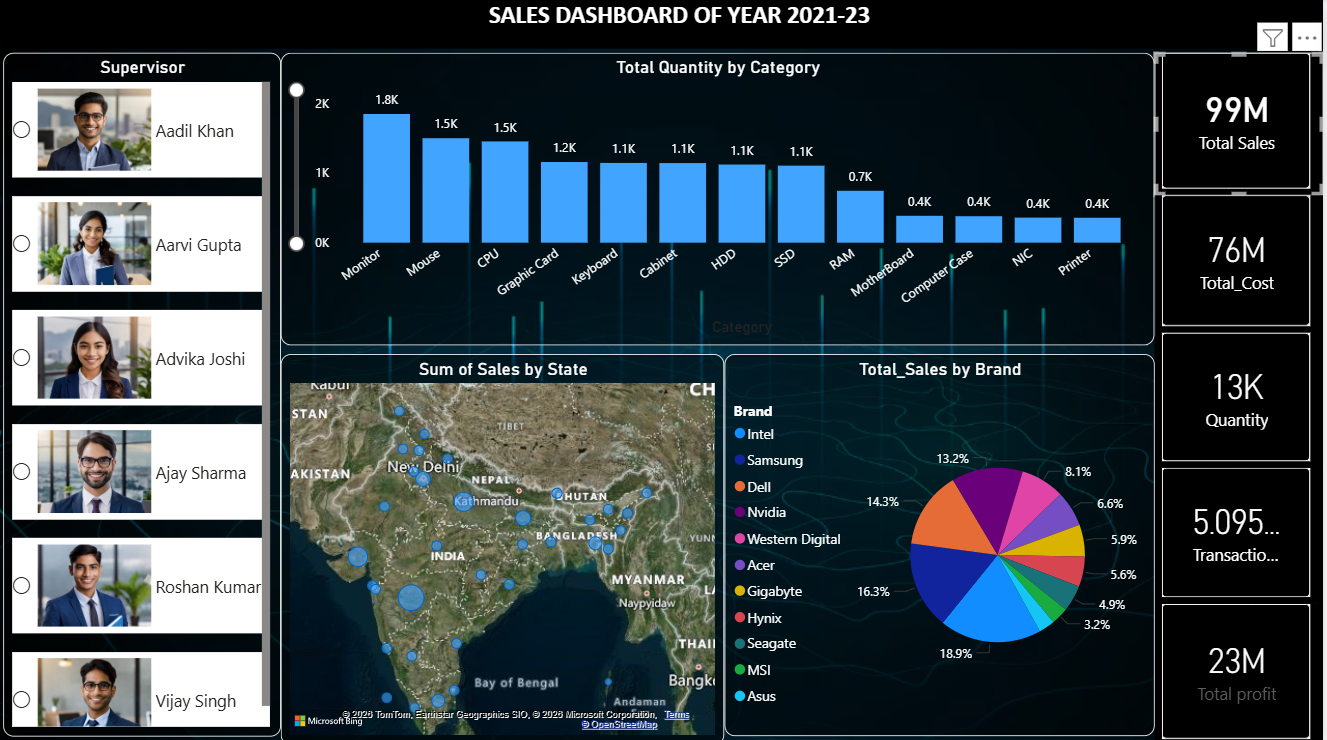

Layout of this report page (visuals, bound fields, positions):
{"tool":"powerbi","page":{"name":"Page 1","canvas":[1280,720],"ordinal":0},"visuals":[{"type":"textbox","box":[6,0,1270.5,48],"z":0},{"type":"cardVisual","fields":{"Data":["Sum(Sales_Data.Total_Sales)"]},"box":[1117.2,51.9,162.9,137.5],"z":1000},{"type":"cardVisual","fields":{"Data":["Sum(Sales_Data.Total_Cost)"]},"box":[1117.2,189.4,162.9,132.7],"z":2000},{"type":"cardVisual","fields":{"Data":["Sales_Data.Total profit"]},"box":[1117.2,583.9,162.9,136.3],"z":3000},{"type":"cardVisual","fields":{"Data":["CountNonNull(Sales_Data.Order_Number)"]},"box":[1117.2,452.4,162.9,131.5],"z":4000},{"type":"cardVisual","fields":{"Data":["Sum(Sales_Data.Quantity)"]},"box":[1117.2,322.1,162.9,130.3],"z":5000},{"type":"pieChart","fields":{"Y":["Sum(Sales_Data.Total_Sales)"],"Category":["Sales_Data.Brand"]},"box":[702.1,342.6,415,369.2],"z":6000},{"type":"clusteredColumnChart","title":"Total Quantity by Category","fields":{"Y":["Sum(Sales_Data.Quantity)"],"Category":["Sales_Data.Category"]},"box":[273.9,51.9,843.3,282.3],"z":7000},{"type":"map","fields":{"Category":["State_list.State"],"Size":["Sum(Sales_Data.Sales)"]},"box":[273.9,342.6,428.3,377.6],"z":8000},{"type":"listSlicer","fields":{"Values":["Supervisor.Supervisor"]},"box":[6,51.9,267.8,659.9],"z":9000}]}

Visuals, with their boxes in screenshot pixels (x1, y1, x2, y2), scaled from the page's 1280x720 canvas onto the 1327x740 screenshot:
textbox: [x1=6, y1=0, x2=1323, y2=49]
cardVisual - Sum(Sales_Data.Total_Sales): [x1=1158, y1=53, x2=1326, y2=195]
cardVisual - Sum(Sales_Data.Total_Cost): [x1=1158, y1=195, x2=1326, y2=331]
cardVisual - Sales_Data.Total profit: [x1=1158, y1=600, x2=1326, y2=739]
cardVisual - CountNonNull(Sales_Data.Order_Number): [x1=1158, y1=465, x2=1326, y2=600]
cardVisual - Sum(Sales_Data.Quantity): [x1=1158, y1=331, x2=1326, y2=465]
pieChart - Sum(Sales_Data.Total_Sales) x Sales_Data.Brand: [x1=728, y1=352, x2=1158, y2=732]
"Total Quantity by Category" clusteredColumnChart: [x1=284, y1=53, x2=1158, y2=343]
map - State_list.State x Sum(Sales_Data.Sales): [x1=284, y1=352, x2=728, y2=739]
listSlicer - Supervisor.Supervisor: [x1=6, y1=53, x2=284, y2=732]
